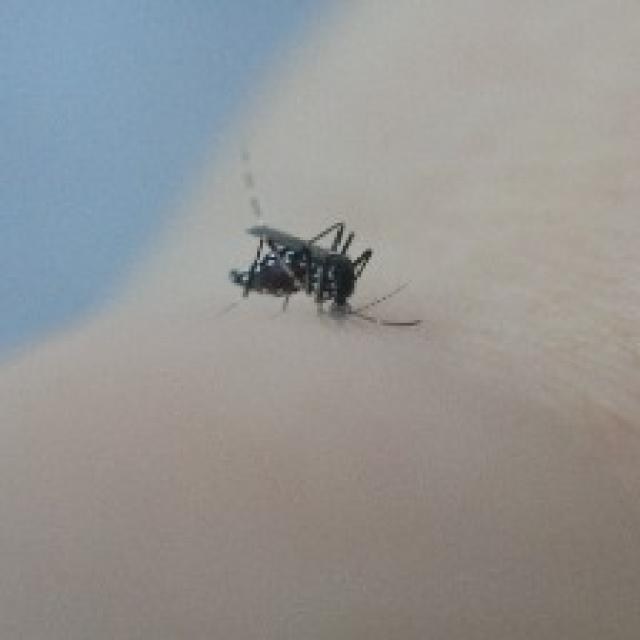aedes: (108, 162, 475, 348)
